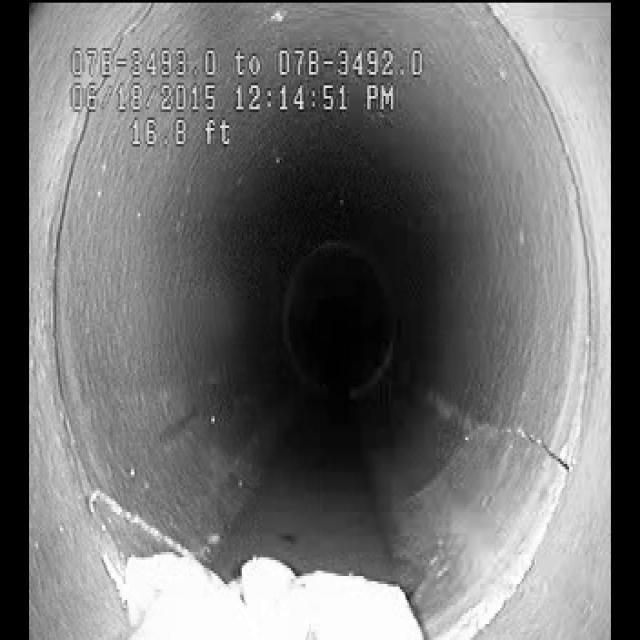Crack: (427, 366, 575, 491)
